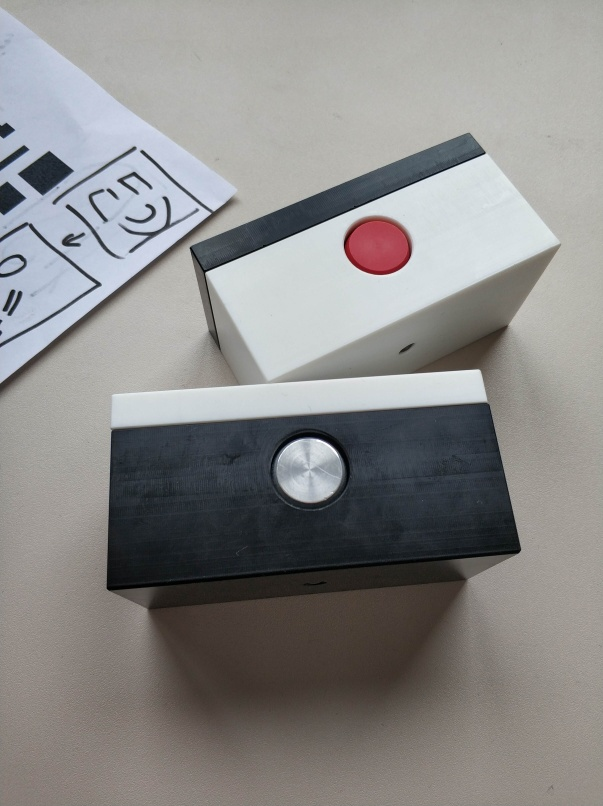black+white+red: (187, 130, 564, 388)
white+black+silver: (105, 368, 528, 613)
